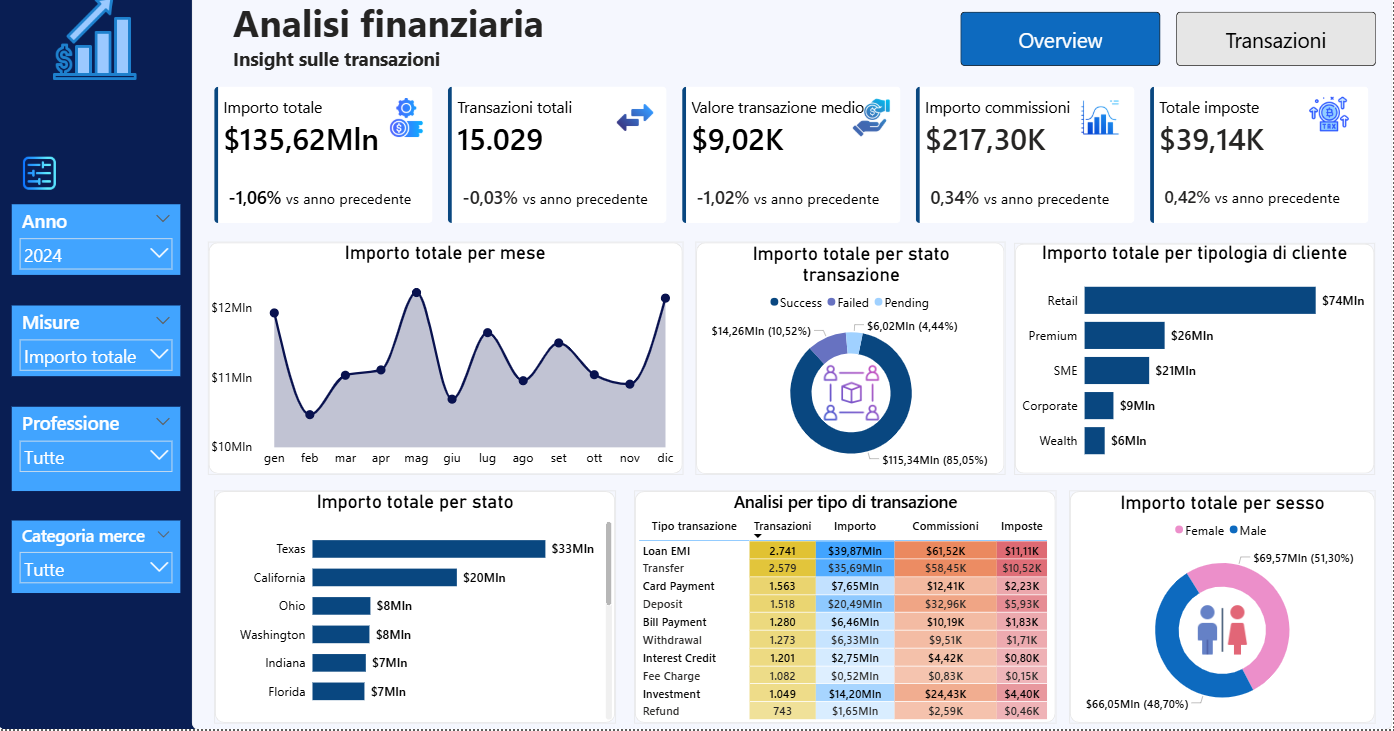

What the dashboard file says about the page in this screenshot:
{"tool":"powerbi","page":{"name":"Overview","canvas":[1800,950],"ordinal":0},"visuals":[{"type":"shape","box":[0,0,337.9,951.1],"z":0},{"type":"shape","box":[249.5,0,1549.9,951.1],"z":1000},{"type":"textbox","box":[297.8,0,718.3,140.2],"z":2000},{"type":"cardVisual","fields":{"Data":["Misure.Importo totale","Misure.Transazioni totali","Misure.Valore transazione medio","Misure.Importo commissioni","Misure.Totale imposte"]},"box":[272.5,114.3,1505.1,189],"z":3000},{"type":"slicer","fields":{"Values":["calendar_table.Year"]},"box":[17.6,273,217.2,91],"z":4000},{"type":"image","box":[0,0,249.6,115.6],"z":5000},{"type":"image","box":[1682.7,125.3,70,60.5],"z":6000},{"type":"image","box":[797.5,135.7,50.1,50.1],"z":7000},{"type":"image","box":[501.1,135.7,50.1,50.1],"z":8000},{"type":"image","box":[1101.6,135,50.4,50.4],"z":9000},{"type":"image","box":[1396.7,135.7,50.1,50.1],"z":10000},{"type":"shape","box":[271.8,320.4,613.8,300.6],"z":11000},{"type":"slicer","fields":{"Values":["Misure 2.Misure"]},"box":[17.6,403.1,217.2,91],"z":12000},{"type":"shape","box":[900.9,320.8,399.9,301],"z":13000},{"type":"areaChart","fields":{"Y":["Misure.Importo totale"],"Category":["calendar_table.Month"]},"box":[270,320.4,615.6,300.6],"z":14000},{"type":"donutChart","fields":{"Y":["Misure.Importo totale"],"Category":["finance_transactions.transaction_status"]},"box":[903.1,323,395.5,301],"z":15000},{"type":"shape","box":[1311.8,323,465.8,298.8],"z":16000},{"type":"barChart","fields":{"Y":["Misure.Importo totale"],"Category":["customers.customer_segment"]},"box":[1311.8,320.8,465.8,298.8],"z":17000},{"type":"shape","box":[279.1,641.6,518.6,301],"z":18000},{"type":"barChart","fields":{"Y":["Misure.Importo totale"],"Category":["customers.state"]},"box":[279.1,641.6,518.6,301],"z":19000},{"type":"shape","box":[821.8,641.6,544.9,301],"z":20000},{"type":"tableEx","title":"Analisi per tipo di transazione","fields":{"Values":["finance_transactions.transaction_type","Misure.Transazioni totali","Misure.Importo totale","Misure.Importo commissioni","Misure.Totale imposte"]},"box":[821.8,641.6,544.9,301],"z":21000},{"type":"shape","box":[1382.1,641.6,395.5,301],"z":22000},{"type":"donutChart","fields":{"Y":["Misure.Importo totale"],"Category":["customers.gender"]},"box":[1382.1,643.8,395.5,298.8],"z":23000},{"type":"image","box":[1054.7,476.8,92.3,76.9],"z":24000},{"type":"image","box":[1544.7,775.6,72.5,92.3],"z":25000},{"type":"slicer","fields":{"Values":["customers.occupation"]},"box":[17.6,533.3,217.2,108.6],"z":26000},{"type":"slicer","fields":{"Values":["finance_transactions.merchant_category"]},"box":[17.6,681,217.2,93.9],"z":27000},{"type":"pageNavigator","box":[1241.7,23.5,537.2,70.5],"z":28000},{"type":"image","box":[17.7,208.1,71,48.4],"z":29000}]}

Visuals, with their boxes on the page's 1800x950 design canvas (x1, y1, x2, y2). These are canvas units, not pixel positions in the 1394x731 screenshot, which may show the page scaled, cropped or inside an application window:
shape: box(0, 0, 338, 951)
shape: box(250, 0, 1799, 951)
textbox: box(298, 0, 1016, 140)
cardVisual - Misure.Importo totale x Misure.Transazioni totali: box(272, 114, 1778, 303)
slicer - calendar_table.Year: box(18, 273, 235, 364)
image: box(0, 0, 250, 116)
image: box(1683, 125, 1753, 186)
image: box(798, 136, 848, 186)
image: box(501, 136, 551, 186)
image: box(1102, 135, 1152, 185)
image: box(1397, 136, 1447, 186)
shape: box(272, 320, 886, 621)
slicer - Misure 2.Misure: box(18, 403, 235, 494)
shape: box(901, 321, 1301, 622)
areaChart - Misure.Importo totale x calendar_table.Month: box(270, 320, 886, 621)
donutChart - Misure.Importo totale x finance_transactions.transaction_status: box(903, 323, 1299, 624)
shape: box(1312, 323, 1778, 622)
barChart - Misure.Importo totale x customers.customer_segment: box(1312, 321, 1778, 620)
shape: box(279, 642, 798, 943)
barChart - Misure.Importo totale x customers.state: box(279, 642, 798, 943)
shape: box(822, 642, 1367, 943)
"Analisi per tipo di transazione" tableEx: box(822, 642, 1367, 943)
shape: box(1382, 642, 1778, 943)
donutChart - Misure.Importo totale x customers.gender: box(1382, 644, 1778, 943)
image: box(1055, 477, 1147, 554)
image: box(1545, 776, 1617, 868)
slicer - customers.occupation: box(18, 533, 235, 642)
slicer - finance_transactions.merchant_category: box(18, 681, 235, 775)
pageNavigator: box(1242, 24, 1779, 94)
image: box(18, 208, 89, 256)
